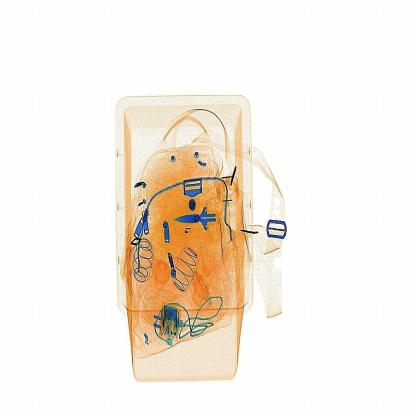gun: (172, 190, 235, 255)
